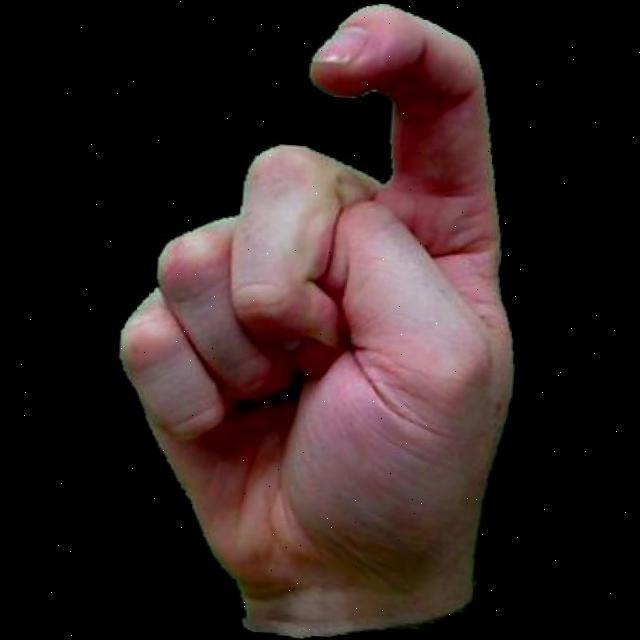x: (78, 0, 556, 640)
